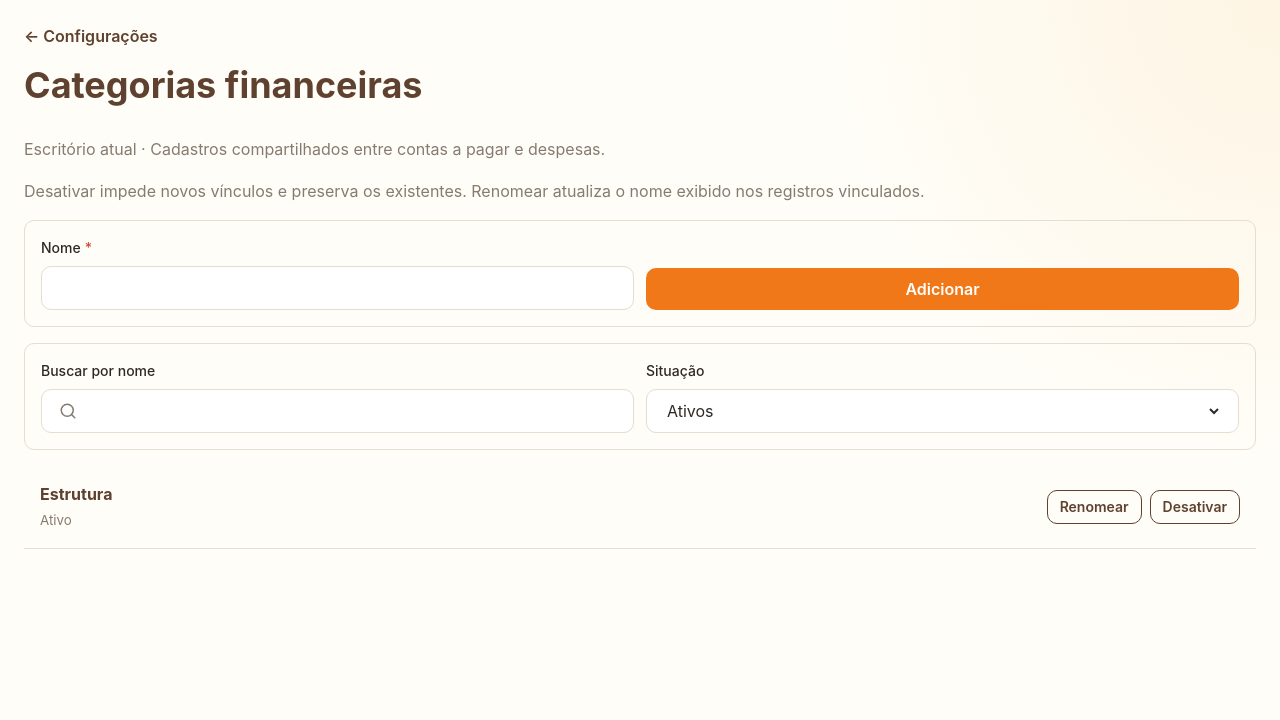
Test: Organização financeira › descarta lista antiga ao trocar escritório e limpa edição pendente
The image size is (1280, 720).
Click the button with aria-label "Renomear Estrutura".
click(1094, 507)  # box [1047,490,1142,524]
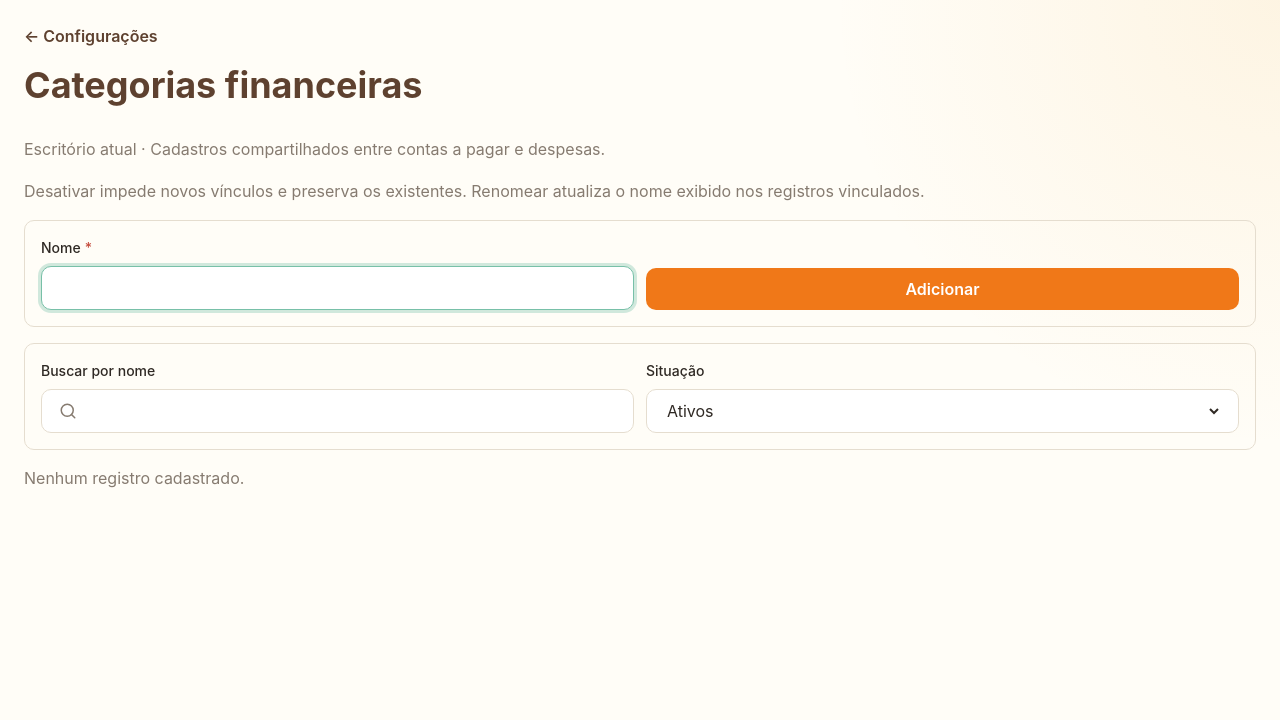
Expected: the field with id "classification-name" is empty, [58,275,617,301]
Now the text "Estrutura" is gone
